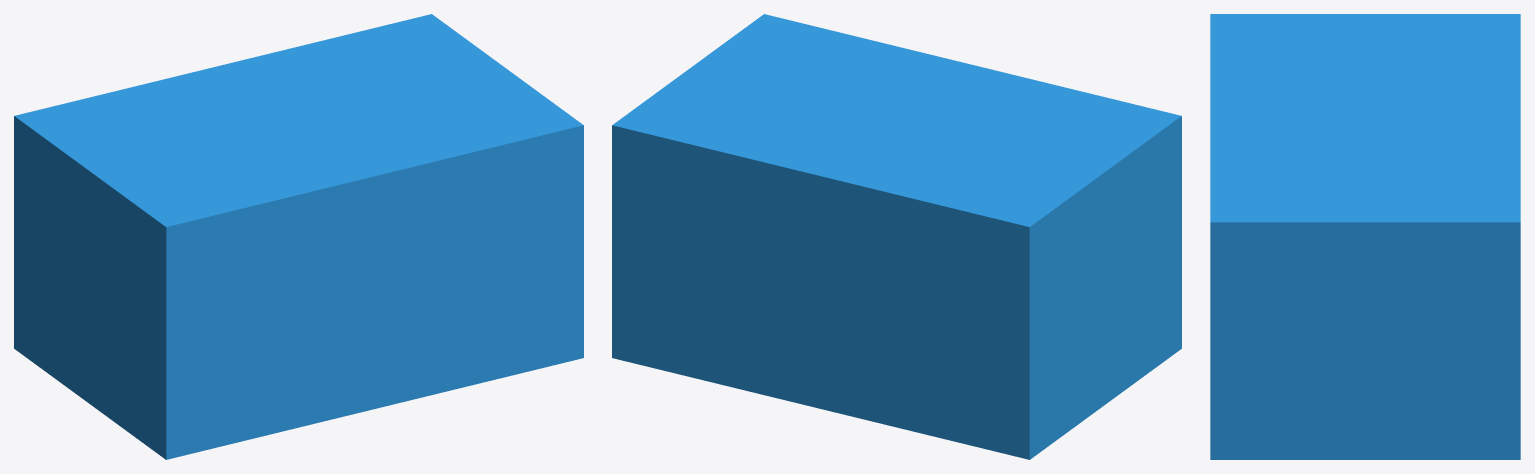
File: blue.gltf
3 views of the same model, side by side, from view 1: azimuth 30°, elevation 25°; view 2: azimuth 150°, elevation 25°; view 3: azimuth 270°, elevation 25° (orthographic). The views are drawn at different scales.
Parts seen in each view (by area): view 1: blue; view 2: blue; view 3: blue.
Boxes of the visible parts, <box> form: blue: <box>14,14,583,459</box>; blue: <box>612,14,1181,459</box>; blue: <box>1210,14,1520,459</box>.
Bounding box in the file's own units: 1.84 × 0.98 × 1.16.
